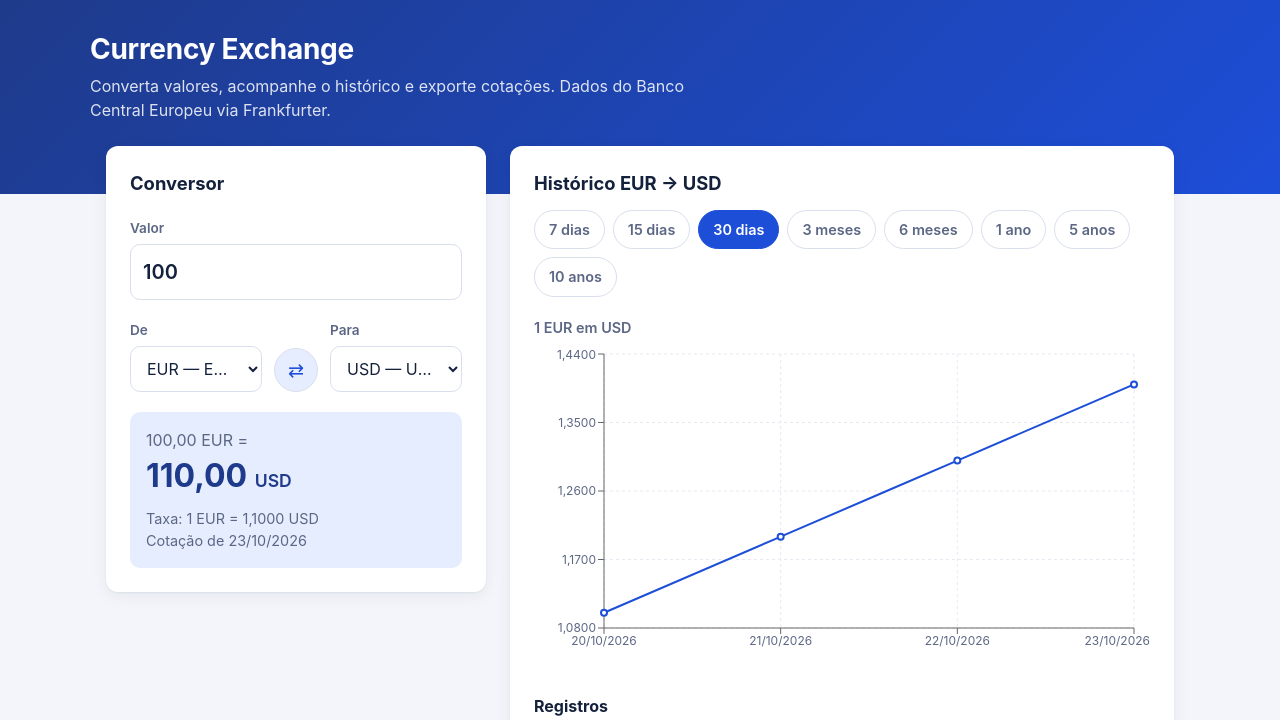
App (integração com fetch simulado) › avisa quando as moedas são iguais e não consulta a API de taxa
The image size is (1280, 720).
expect the text "110,00" is shown: met, box [146, 456, 247, 495]
Select "EUR — Euro" in the dropdown labelled "Para" at (396, 369), box [330, 346, 462, 392]
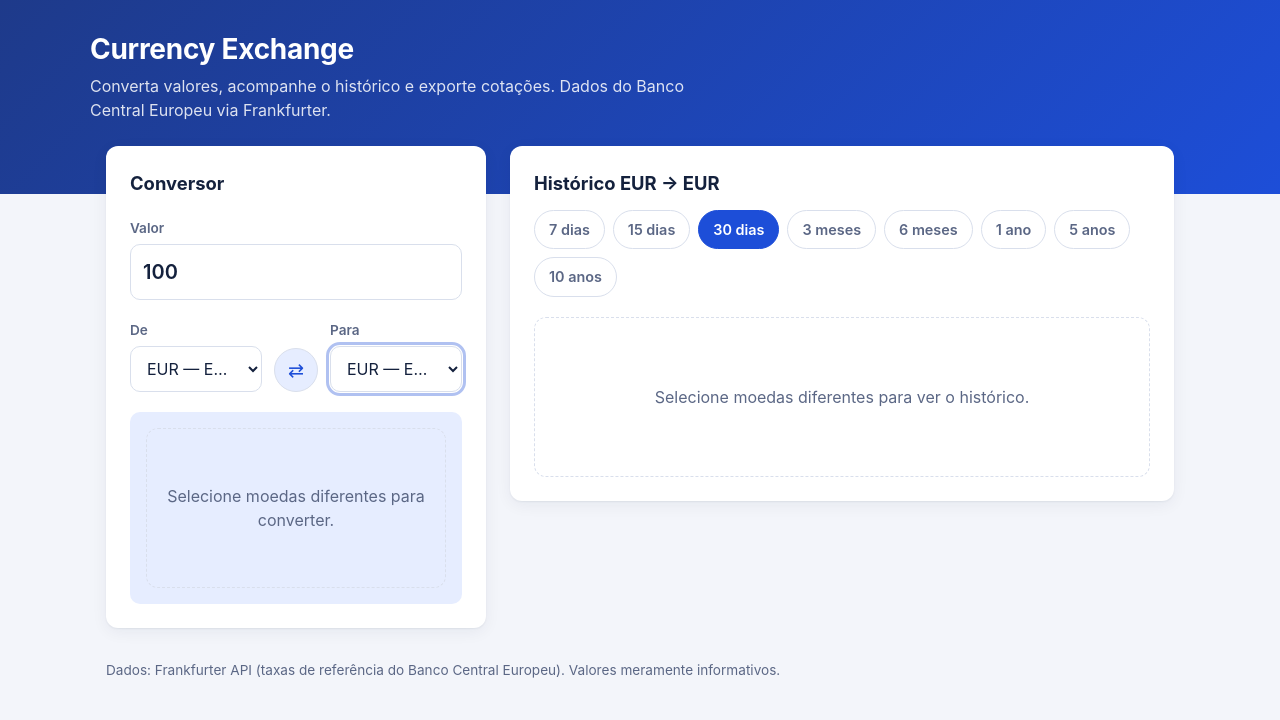
expect the text "Selecione moedas diferentes para converter." is shown 2 times: met, box [163, 484, 429, 532]; [655, 385, 1029, 409]
